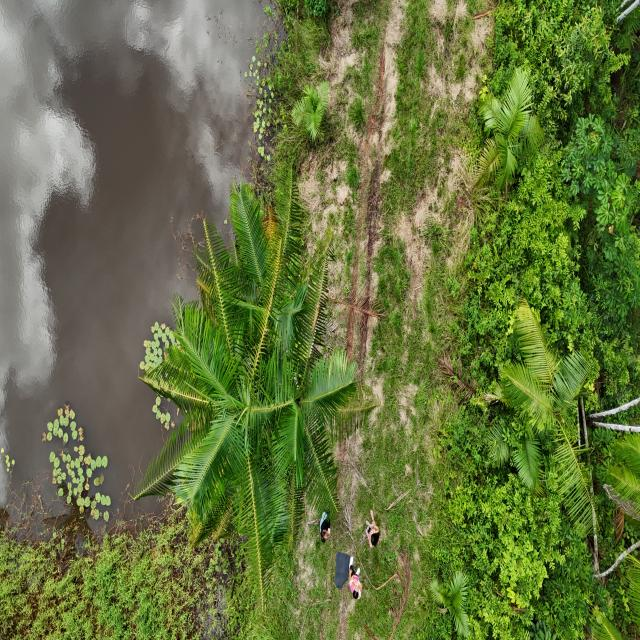vegetation: (128, 157, 380, 615)
